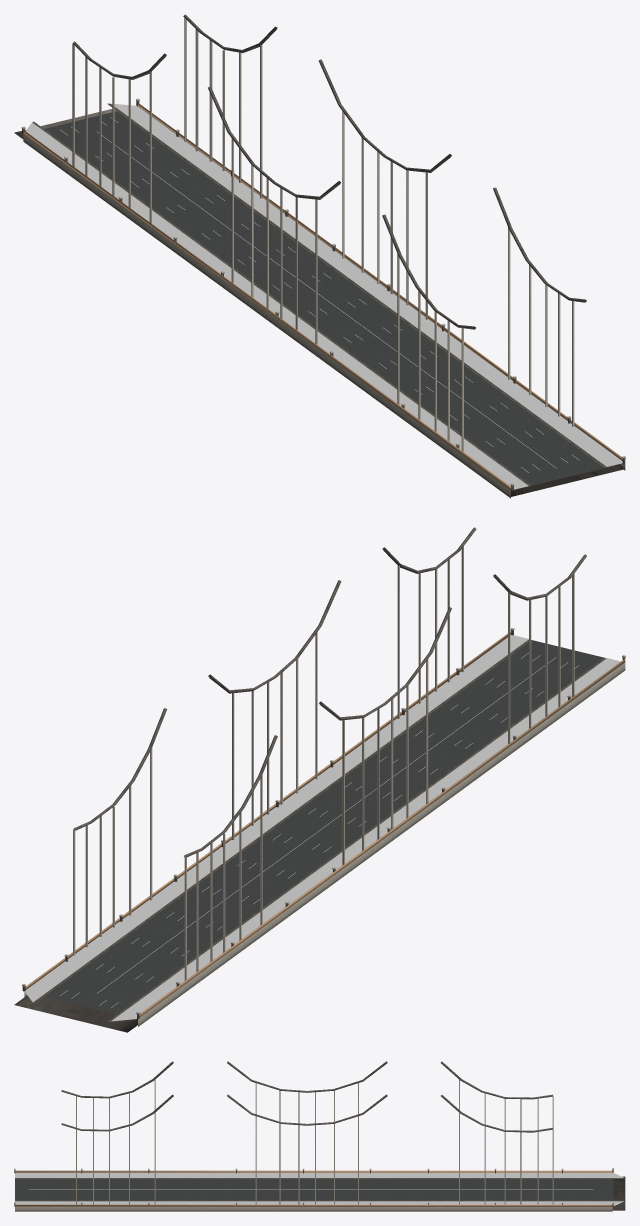
The model's file is Bridge.fbx.
The picture shows the model from 3 angles, top to bottom: view 1: azimuth 30°, elevation 25°; view 2: azimuth 150°, elevation 25°; view 3: azimuth 270°, elevation 25°; orthographic projection. The views are drawn at different scales.
Parts seen in each view (by area): view 1: Terrain_NY_Asphalt.016, Terrain_NY_Asphalt.019, Bridge_Frame, Terrain_NY_Asphalt.017, Bridge_Border, Bride_Wire, Terrain_NY_Asphalt.018; view 2: Terrain_NY_Asphalt.016, Terrain_NY_Asphalt.019, Bridge_Frame, Terrain_NY_Asphalt.017, Bridge_Border, Bride_Wire, Terrain_NY_Asphalt.018; view 3: Terrain_NY_Asphalt.016, Terrain_NY_Asphalt.019, Terrain_NY_Asphalt.017, Bridge_Border, Bridge_Frame, Bride_Wire, Terrain_NY_Marking.015, Terrain_NY_Asphalt.018.
Part boxes in pixels (x1=…): Terrain_NY_Asphalt.016: x1=44, y1=111, x2=603, y2=485; Terrain_NY_Asphalt.019: x1=25, y1=103, x2=622, y2=489; Bridge_Frame: x1=72, y1=18, x2=574, y2=451; Terrain_NY_Asphalt.017: x1=23, y1=103, x2=625, y2=498; Bridge_Border: x1=24, y1=103, x2=622, y2=491; Bride_Wire: x1=73, y1=14, x2=586, y2=329; Terrain_NY_Asphalt.018: x1=14, y1=109, x2=624, y2=496; Terrain_NY_Asphalt.016: x1=45, y1=640, x2=604, y2=1014; Terrain_NY_Asphalt.019: x1=24, y1=635, x2=620, y2=1021; Bridge_Frame: x1=73, y1=546, x2=574, y2=980; Terrain_NY_Asphalt.017: x1=24, y1=635, x2=625, y2=1026; Bridge_Border: x1=25, y1=631, x2=625, y2=1016; Bride_Wire: x1=73, y1=527, x2=586, y2=857; Terrain_NY_Asphalt.018: x1=14, y1=995, x2=137, y2=1032; Terrain_NY_Asphalt.016: x1=15, y1=1179, x2=613, y2=1200; Terrain_NY_Asphalt.019: x1=15, y1=1172, x2=623, y2=1205; Terrain_NY_Asphalt.017: x1=15, y1=1178, x2=625, y2=1211; Bridge_Border: x1=15, y1=1170, x2=612, y2=1206; Bridge_Frame: x1=76, y1=1079, x2=553, y2=1204; Bride_Wire: x1=61, y1=1061, x2=552, y2=1132; Terrain_NY_Marking.015: x1=29, y1=1189, x2=593, y2=1189; Terrain_NY_Asphalt.018: x1=612, y1=1176, x2=625, y2=1210.
Size of the model in its own units: 2927 by 4552 by 21616.
